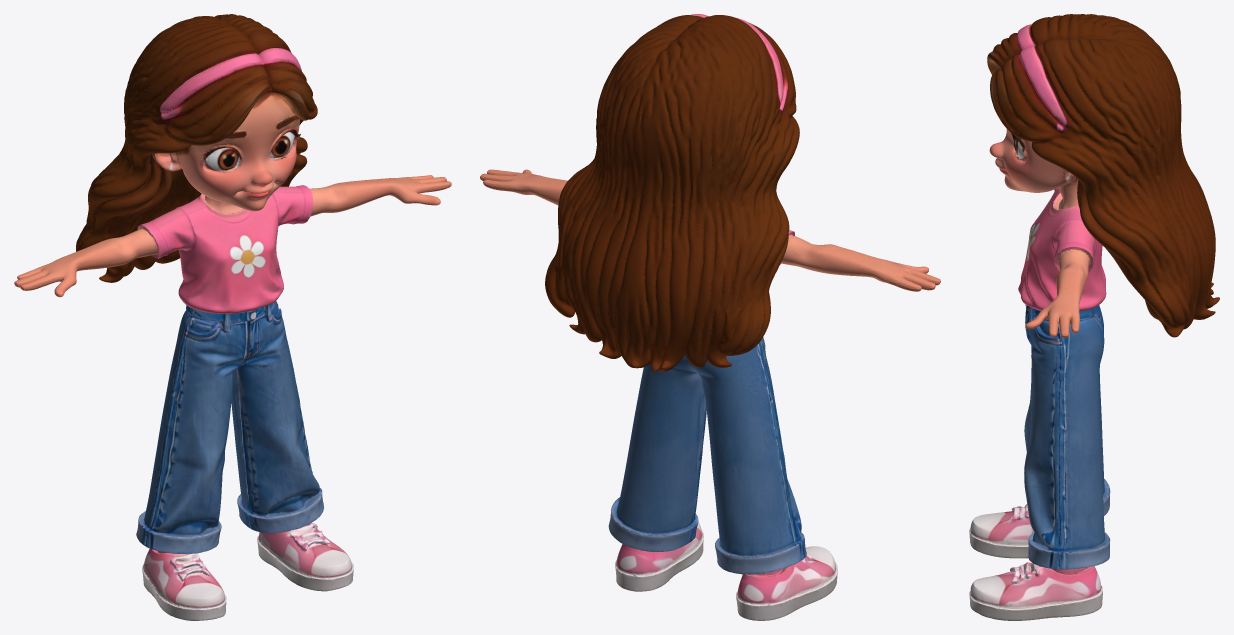
File: base_basic_pbr.fbx
3 views of the same model, side by side, from view 1: azimuth 30°, elevation 25°; view 2: azimuth 150°, elevation 25°; view 3: azimuth 270°, elevation 25° (orthographic). The views are drawn at different scales.
Parts seen in each view (by area): view 1: model; view 2: model; view 3: model.
Boxes of the visible parts, x1,y1,x2,y2 form: model: (14, 14, 451, 620); model: (480, 14, 940, 620); model: (969, 14, 1219, 620).
Bounding box in the file's own units: 142 × 171 × 70.12.
Materials: 1 (1 with a texture image).
